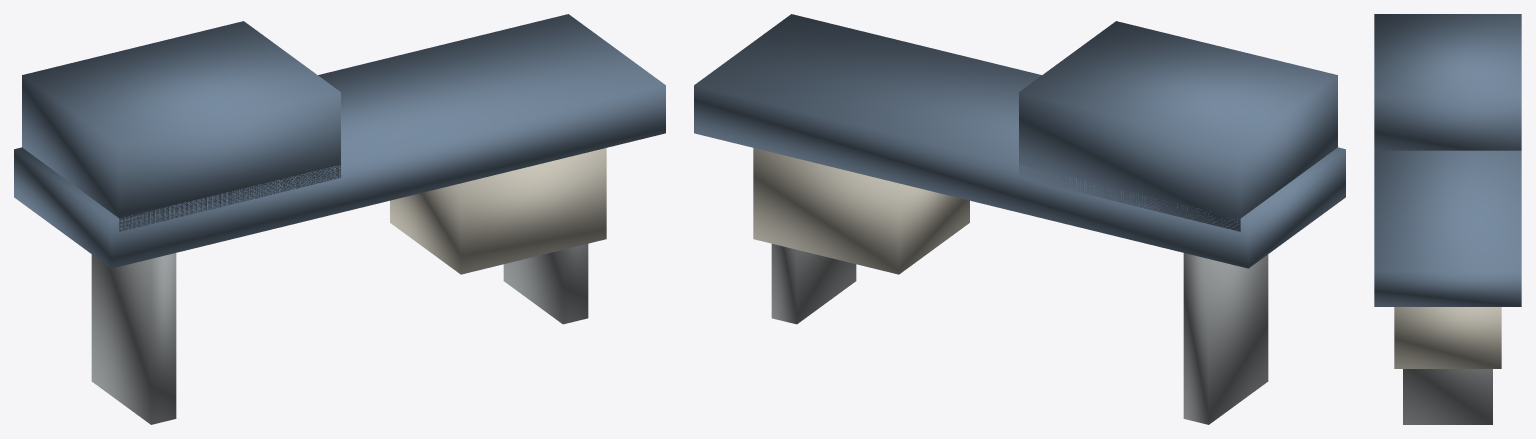
Rendered from exam_table__wide.glb.
The picture shows the model from 3 angles, left to right: view 1: azimuth 30°, elevation 25°; view 2: azimuth 150°, elevation 25°; view 3: azimuth 270°, elevation 25°; orthographic projection. The views are drawn at different scales.
Parts seen in each view (by area): view 1: world; view 2: world; view 3: world.
Part boxes in pixels (<box>): world: <box>14,14,665,424</box>; world: <box>694,14,1345,424</box>; world: <box>1374,14,1521,424</box>.
Bounding box in the file's own units: 2.17 × 1.14 × 0.66.
